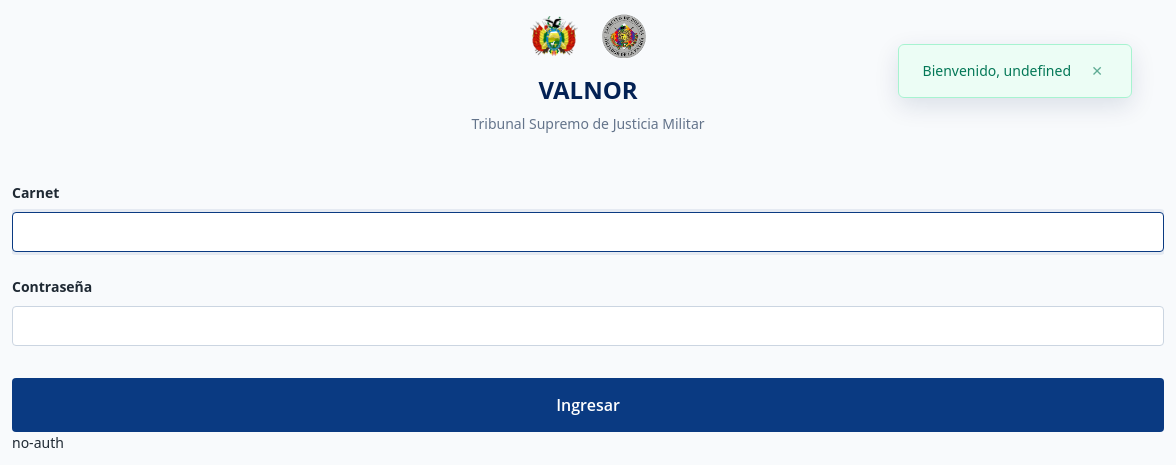
Test case: LoginForm › muestra toast error 401 como credenciales invalidas
This screenshot has width=1176, height=465.
Type "8012345" into the field labelled "Carnet".
click(588, 232); type("8012345")  # box 12,212 -> 1164,252
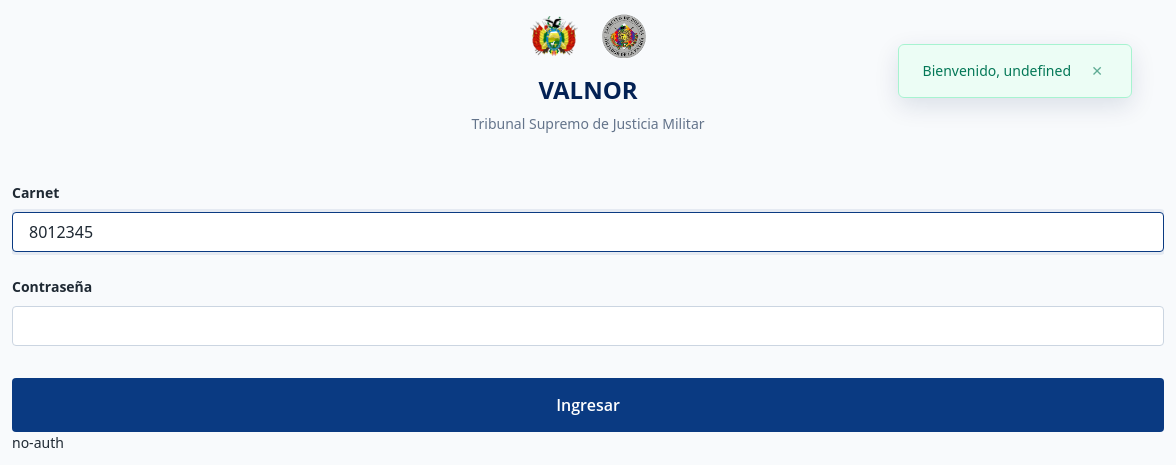
Type "wrong" into the password field labelled "Contraseña".
click(588, 326); type("wrong")  # box 12,306 -> 1164,346
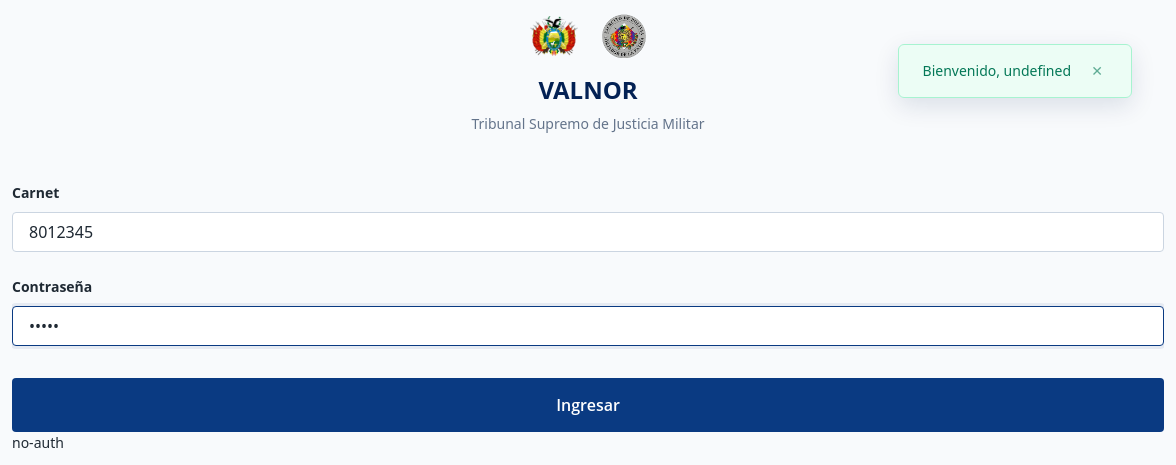
Click the button "Ingresar".
click(588, 405)  # box 12,378 -> 1164,432
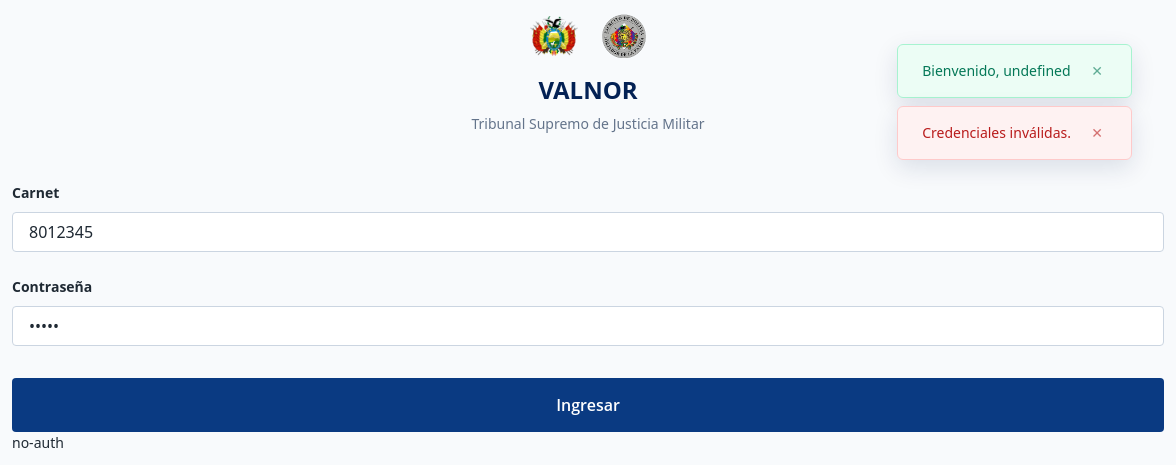
Now the text "Credenciales inválidas." is shown, box 922,123 -> 1071,143
